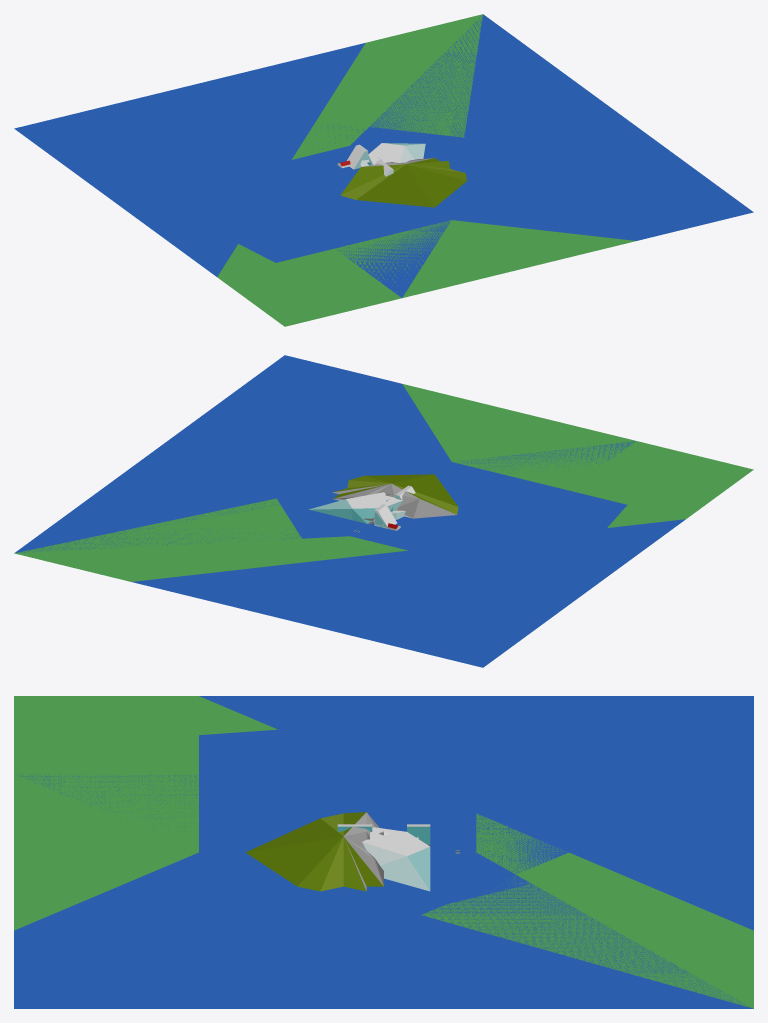
3 views of the same model, one above another, from view 1: azimuth 30°, elevation 25°; view 2: azimuth 150°, elevation 25°; view 3: azimuth 270°, elevation 25° (orthographic). The views are drawn at different scales.
Visible parts, largest first — view 1: nc_042_lod0, nc_046_lod0, nc_002_lod0, nc_045_lod0, nc_049_lod0, nc_070_lod0, nc_047_lod0, nc_071_lod0, nc_089_lod0; view 2: nc_046_lod0, nc_042_lod0, nc_002_lod0, nc_045_lod0, nc_049_lod0, nc_047_lod0, nc_070_lod0, nc_089_lod0, nc_071_lod0; view 3: nc_042_lod0, nc_046_lod0, nc_002_lod0, nc_049_lod0, nc_045_lod0, nc_070_lod0, nc_047_lod0, nc_071_lod0, nc_089_lod0, nc_043_lod0_s1v0.
Boxes of the visible parts, x1,y1,x2,y2 form: nc_042_lod0: (238, 14, 753, 297); nc_046_lod0: (14, 17, 534, 276); nc_002_lod0: (217, 14, 635, 326); nc_045_lod0: (291, 14, 482, 159); nc_049_lod0: (285, 220, 633, 325); nc_070_lod0: (340, 158, 466, 207); nc_047_lod0: (219, 245, 294, 325); nc_071_lod0: (406, 158, 466, 207); nc_089_lod0: (368, 143, 425, 165); nc_046_lod0: (21, 458, 685, 667); nc_042_lod0: (14, 355, 635, 553); nc_002_lod0: (15, 384, 753, 553); nc_045_lod0: (14, 505, 407, 581); nc_049_lod0: (403, 384, 749, 499); nc_047_lod0: (607, 470, 751, 527); nc_070_lod0: (332, 474, 458, 518); nc_089_lod0: (309, 492, 402, 523); nc_071_lod0: (333, 474, 433, 498); nc_042_lod0: (14, 729, 753, 1008); nc_046_lod0: (199, 696, 753, 1006); nc_002_lod0: (14, 696, 752, 1008); nc_049_lod0: (14, 697, 198, 930); nc_045_lod0: (476, 813, 753, 1008); nc_070_lod0: (246, 812, 383, 891); nc_047_lod0: (17, 696, 273, 747); nc_071_lod0: (245, 836, 383, 886); nc_089_lod0: (362, 827, 430, 891); nc_043_lod0_s1v0: (337, 824, 430, 844).
Size of what is drawn, in the model's own units: 4096 by 128 by 4096.
